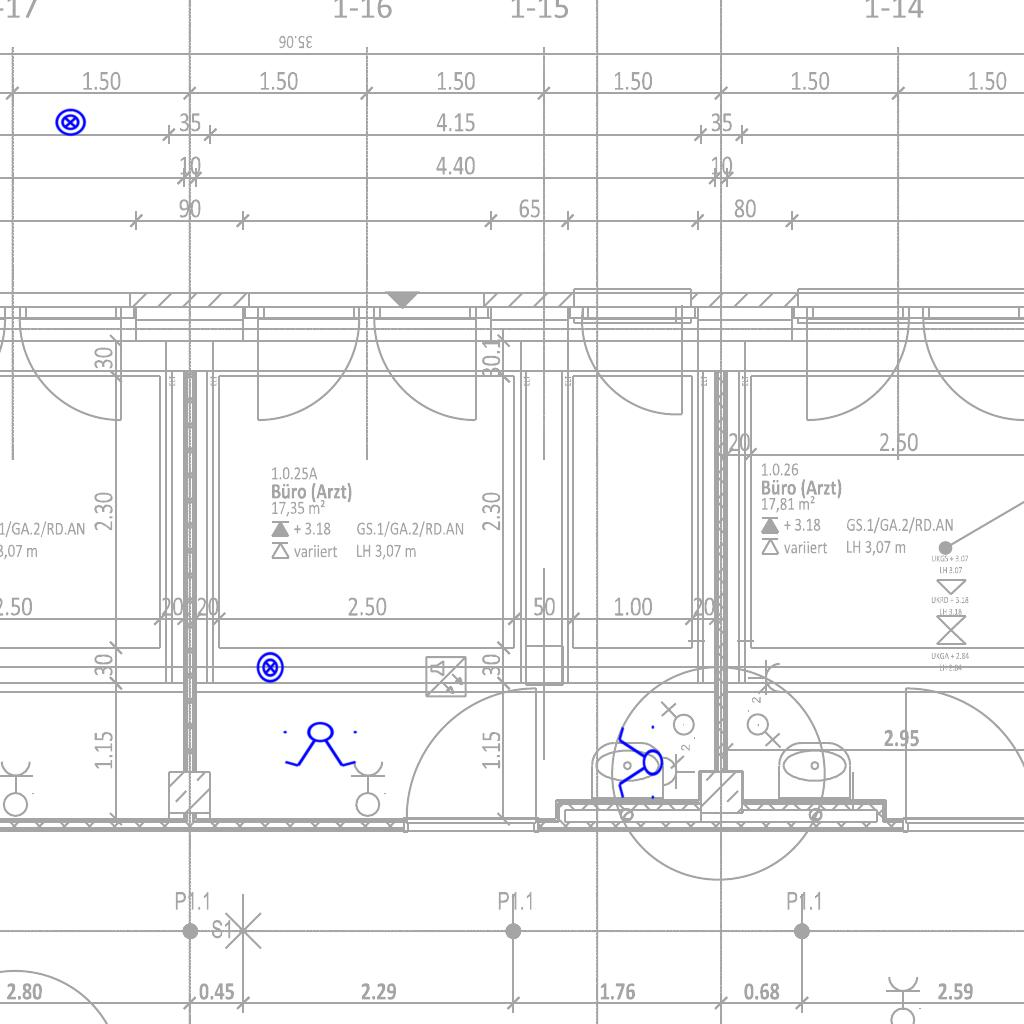Serienschalter: (279, 721, 363, 769), (616, 721, 664, 805)
Taster_beleuchtet: (254, 651, 287, 684), (54, 106, 87, 139)
